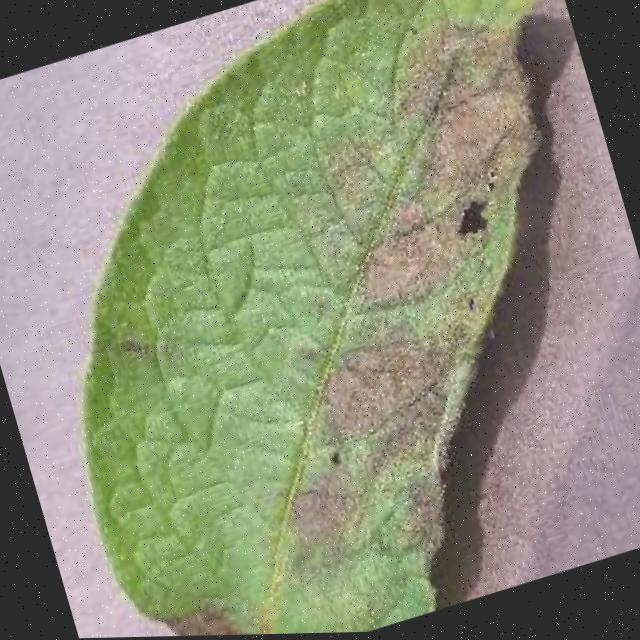Late_blight: (149, 0, 640, 618)
